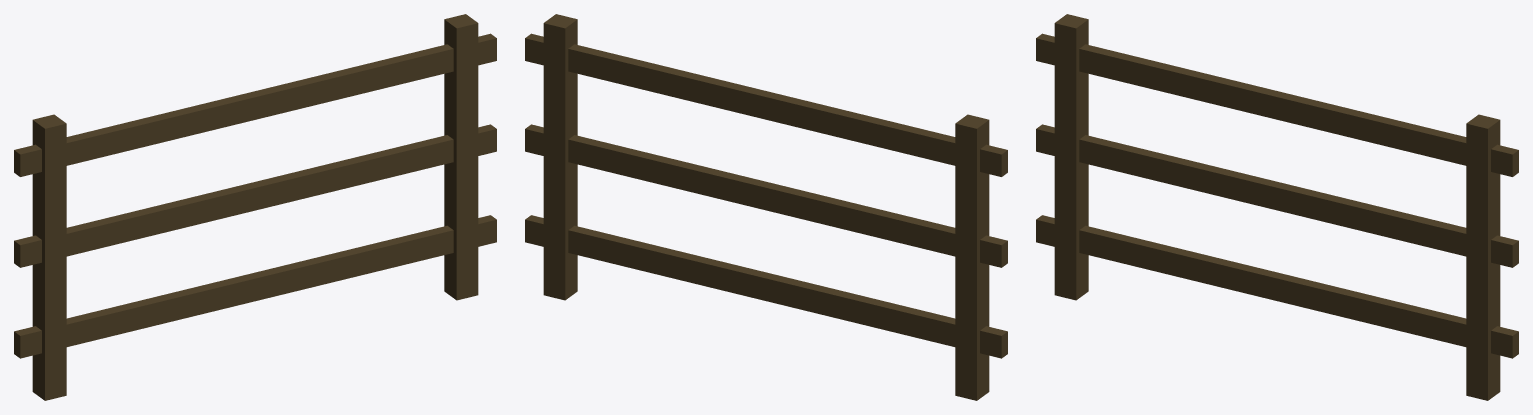
File: fantasy_fence_1.fbx
The picture shows the model from 3 angles, left to right: view 1: azimuth 30°, elevation 25°; view 2: azimuth 150°, elevation 25°; view 3: azimuth 330°, elevation 25°; orthographic projection.
Visible parts, largest first — view 1: Cube.236; view 2: Cube.236; view 3: Cube.236.
Boxes of the visible parts, left/top/right/bottom form: Cube.236: left=14, top=14, right=496, bottom=400; Cube.236: left=525, top=14, right=1007, bottom=400; Cube.236: left=1036, top=14, right=1518, bottom=400.
Size of the model in its own units: 220 by 120 by 10.
